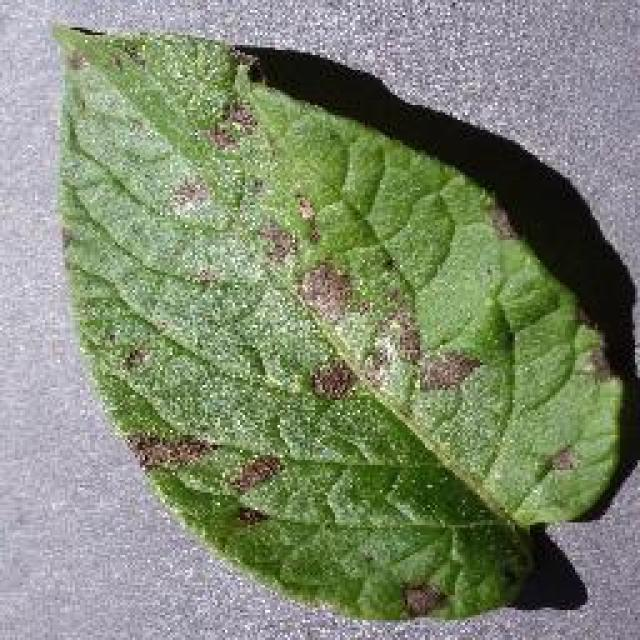early_blight: (45, 17, 637, 625)
